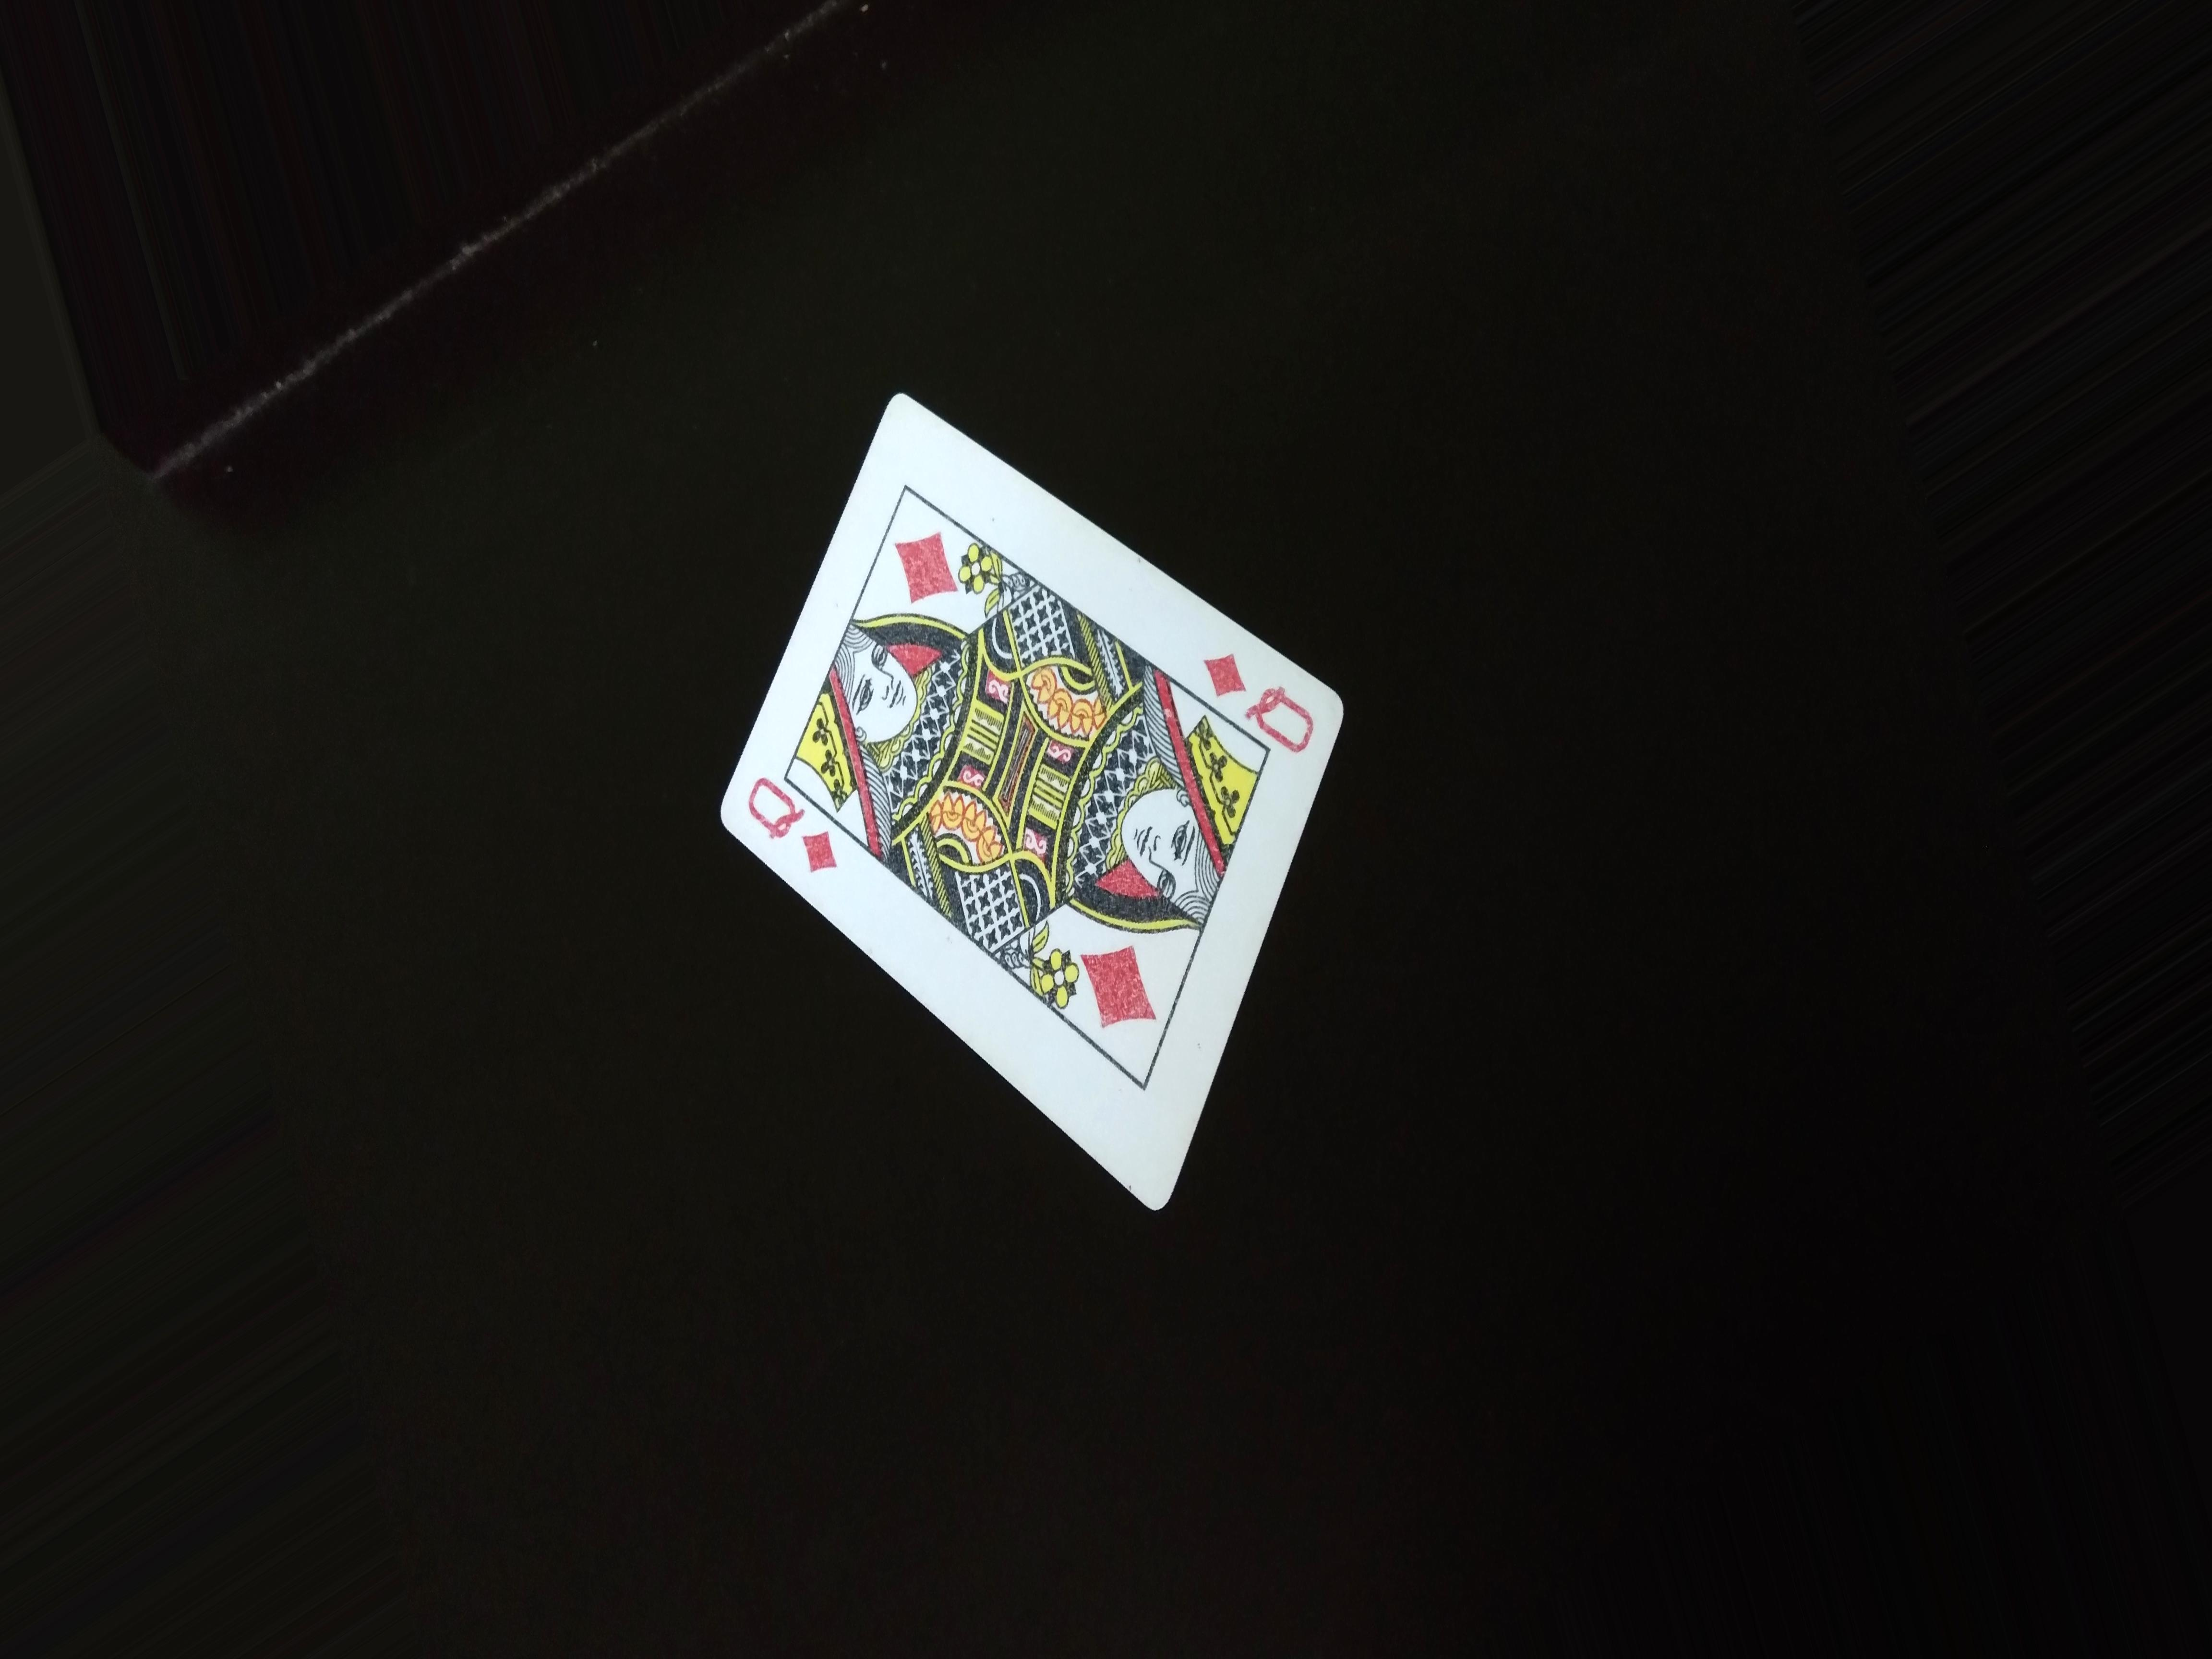QD: (730, 774, 845, 878)
